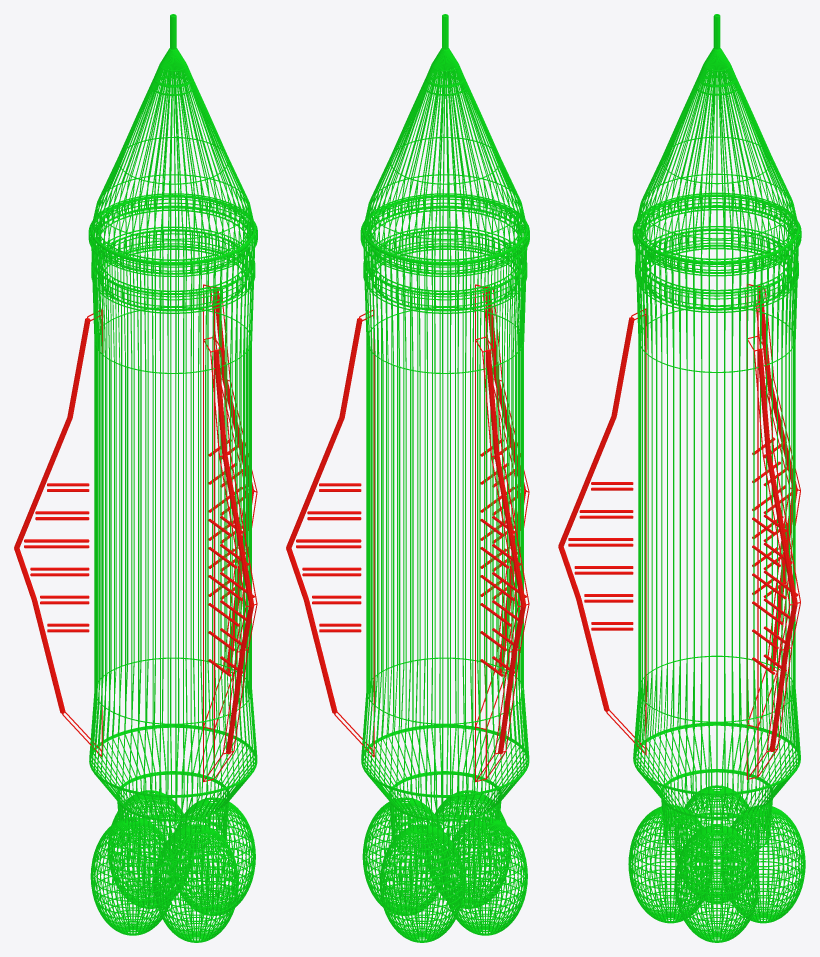
Rendered from mega-missile-highlight-manoeuvring-fins.glb.
The picture shows the model from 3 angles, left to right: view 1: azimuth 30°, elevation 25°; view 2: azimuth 150°, elevation 25°; view 3: azimuth 270°, elevation 25°; orthographic projection.
Parts seen in each view (by area): view 1: chassis technical wire, four-directional-thrusters technical wire, manoeuvring-fins technical wire, nose-guidance-sensors technical wire; view 2: chassis technical wire, four-directional-thrusters technical wire, manoeuvring-fins technical wire, nose-guidance-sensors technical wire; view 3: chassis technical wire, four-directional-thrusters technical wire, manoeuvring-fins technical wire, nose-guidance-sensors technical wire.
Part boxes in pixels (x1,y1,x2,y2): chassis technical wire: (88, 193, 257, 860); four-directional-thrusters technical wire: (90, 790, 255, 942); manoeuvring-fins technical wire: (14, 284, 257, 782); nose-guidance-sensors technical wire: (91, 14, 254, 264); chassis technical wire: (360, 193, 529, 860); four-directional-thrusters technical wire: (362, 790, 527, 942); manoeuvring-fins technical wire: (286, 284, 529, 782); nose-guidance-sensors technical wire: (363, 14, 526, 264); chassis technical wire: (632, 192, 801, 858); four-directional-thrusters technical wire: (628, 785, 805, 942); manoeuvring-fins technical wire: (558, 284, 800, 779); nose-guidance-sensors technical wire: (635, 14, 798, 264).
Size of the model in its own units: 1.8 by 6.47 by 1.6.
